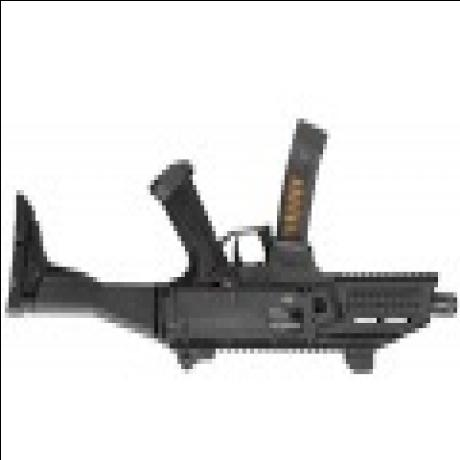weapon: (4, 122, 456, 372)
